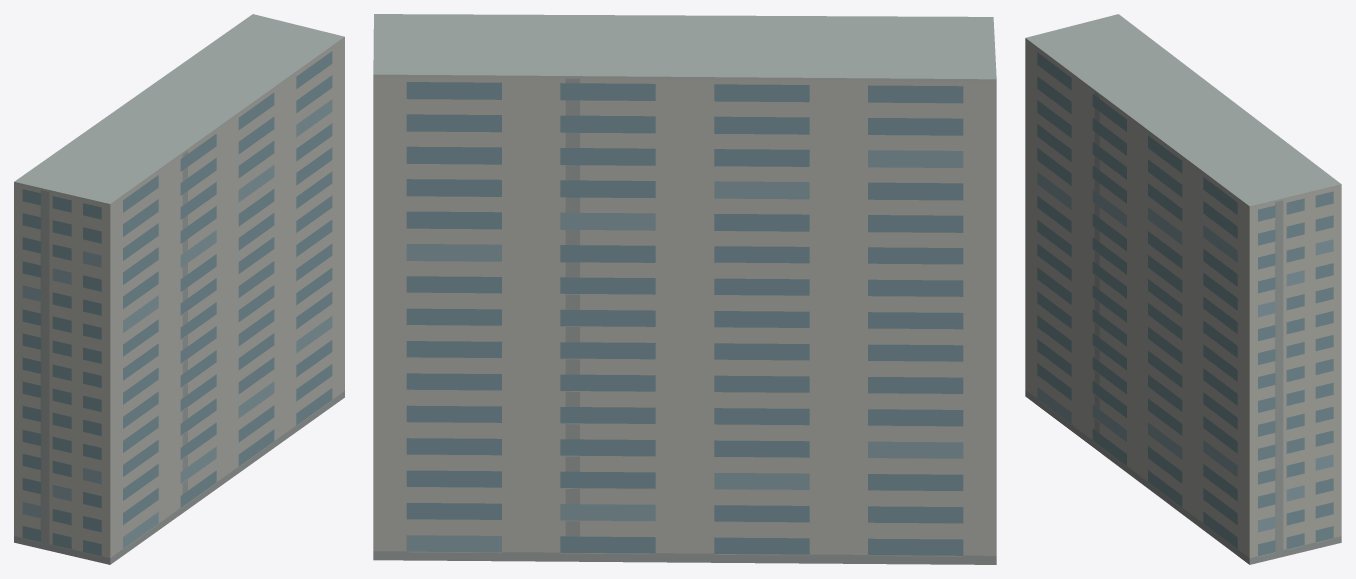
The model's file is residential-5f6dec2a-ec6d-4af2-aca0-324c71aa3231.glb.
The picture shows the model from 3 angles, left to right: view 1: azimuth 30°, elevation 25°; view 2: azimuth 150°, elevation 25°; view 3: azimuth 270°, elevation 25°; orthographic projection. The views are drawn at different scales.
Parts seen in each view (by area): view 1: residential-5f6dec2a-ec6d-4af2-aca0-324c71aa3231.tmp; view 2: residential-5f6dec2a-ec6d-4af2-aca0-324c71aa3231.tmp; view 3: residential-5f6dec2a-ec6d-4af2-aca0-324c71aa3231.tmp.
Boxes of the visible parts, x1,y1,x2,y2 form: residential-5f6dec2a-ec6d-4af2-aca0-324c71aa3231.tmp: (14,14,344,564); residential-5f6dec2a-ec6d-4af2-aca0-324c71aa3231.tmp: (373,14,996,564); residential-5f6dec2a-ec6d-4af2-aca0-324c71aa3231.tmp: (1025,14,1341,564).
Bounding box in the file's own units: 52.64 × 45.75 × 36.57.
